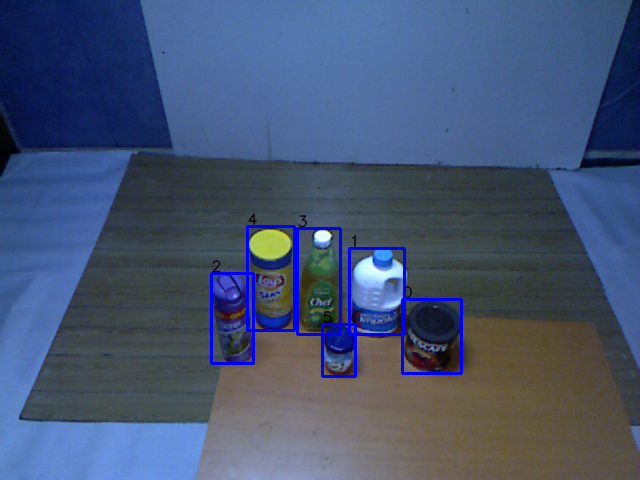aceite: (295, 223, 347, 336)
aerosol: (203, 266, 259, 368)
cafe: (400, 296, 463, 378)
cloro: (346, 241, 413, 341)
crema: (318, 322, 360, 376)
papas: (244, 224, 299, 336)
